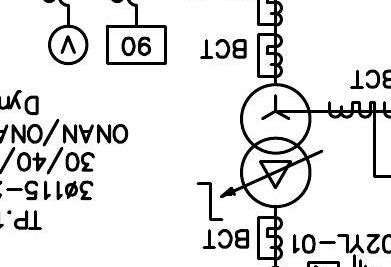11522_tx_dyn1: (239, 82, 312, 209)
v_m: (47, 24, 90, 66)
